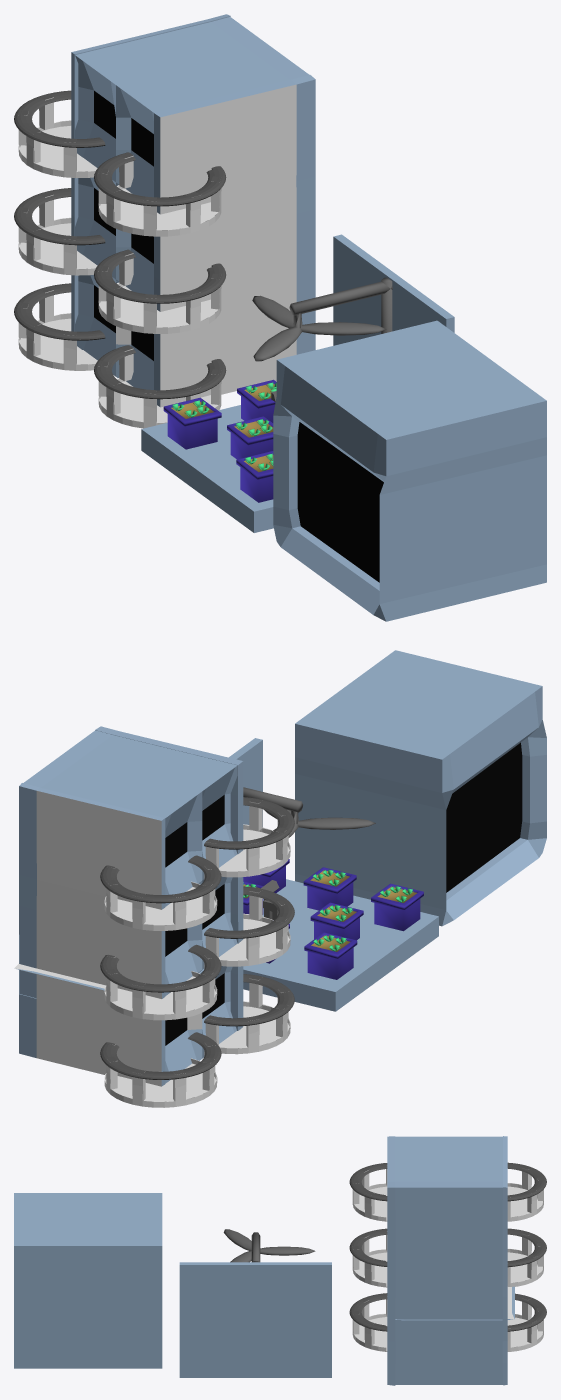
File: Interior-obst1.fbx
3 renders of one model, top to bottom at view 1: azimuth 30°, elevation 25°; view 2: azimuth 150°, elevation 25°; view 3: azimuth 270°, elevation 25°, orthographic. The views are drawn at different scales.
Visible parts, largest first — view 1: PIece3, Piece1, Piece2; view 2: PIece3, Piece1, Piece2; view 3: PIece3, Piece1, Piece2.
Boxes of the visible parts, <box> form: PIece3: <box>14,14,315,428</box>; Piece1: <box>273,320,546,621</box>; Piece2: <box>141,234,454,532</box>; PIece3: <box>14,726,294,1107</box>; Piece1: <box>295,650,546,926</box>; Piece2: <box>229,738,438,1011</box>; PIece3: <box>349,1136,546,1385</box>; Piece1: <box>14,1193,162,1368</box>; Piece2: <box>179,1229,331,1377</box>.
Size of the model in its own units: 19.67 by 25.64 by 62.23.
